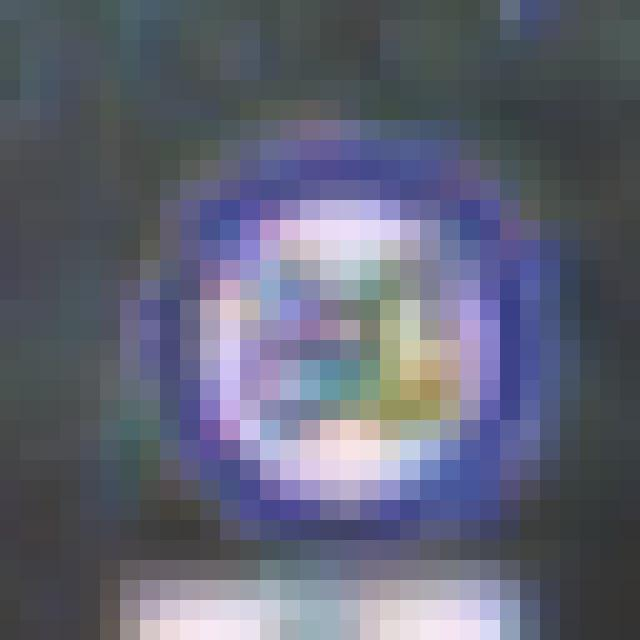SPEED-LIMIT-80: (137, 143, 541, 536)
